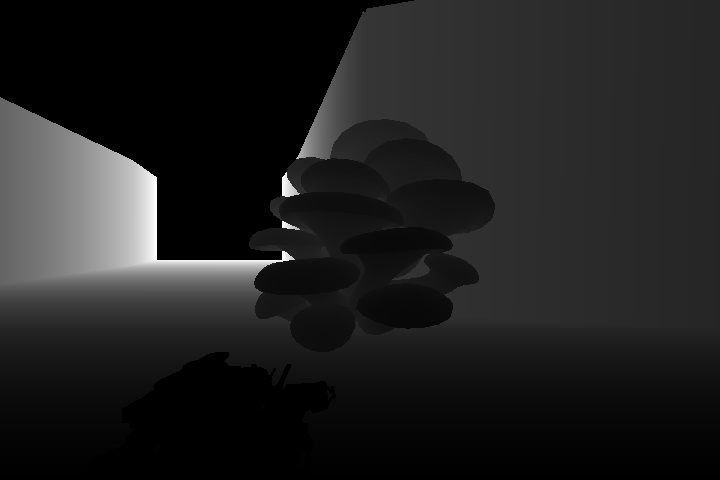glacier: (250, 116, 499, 354)
